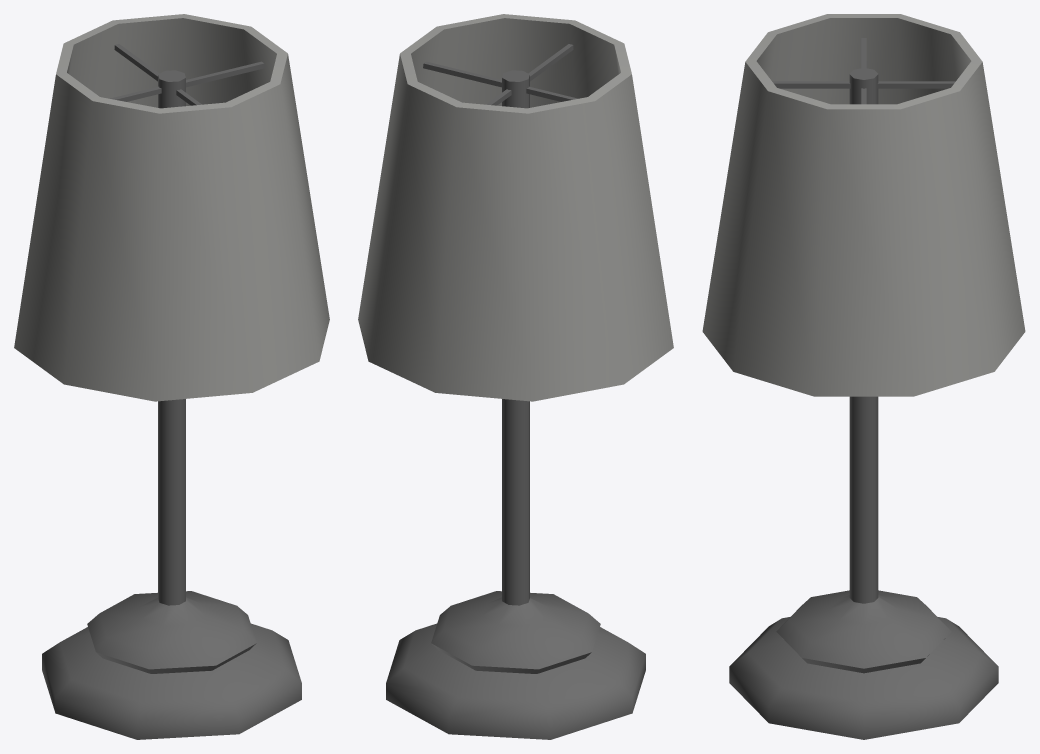
File: Light_Floor3.glb
3 renders of one model, left to right at view 1: azimuth 30°, elevation 25°; view 2: azimuth 150°, elevation 25°; view 3: azimuth 270°, elevation 25°, orthographic.
Parts seen in each view (by area): view 1: Light_Floor3; view 2: Light_Floor3; view 3: Light_Floor3.
Part boxes in pixels (x1,y1,x2,y2): Light_Floor3: [14, 14, 329, 739]; Light_Floor3: [358, 14, 673, 739]; Light_Floor3: [702, 14, 1025, 739].
Size of the model in its own units: 0.1957 by 0.4373 by 0.2058.
Materials: 2 (2 with a texture image).
